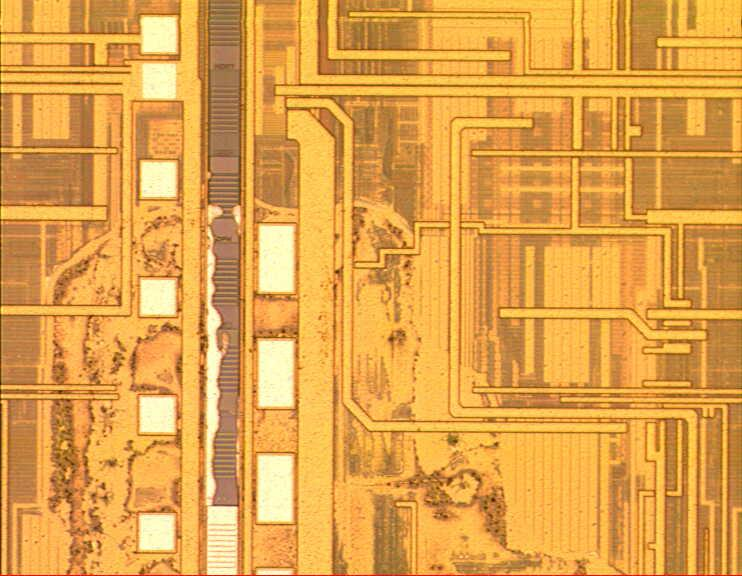BLOCK ETCH: (48, 198, 626, 576)
